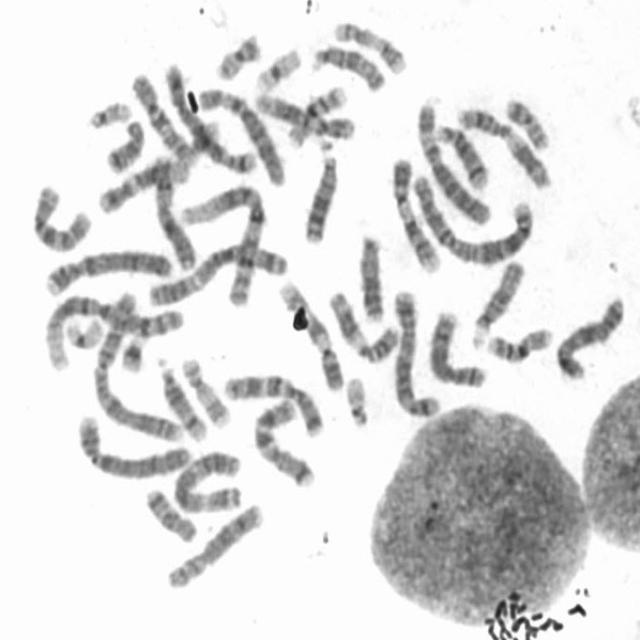A1: (36, 285, 186, 374), (176, 176, 271, 307)
A2: (84, 283, 185, 443), (404, 162, 537, 268)
A3: (141, 235, 292, 308), (167, 441, 245, 515)
B4: (70, 406, 194, 482), (38, 240, 174, 297)
B5: (157, 54, 260, 177), (386, 281, 443, 420)
C10: (125, 64, 195, 165), (24, 175, 94, 255)
C11: (450, 98, 554, 192), (322, 282, 402, 365)
C12: (91, 150, 192, 217), (248, 84, 358, 140)
C6: (410, 90, 494, 228), (192, 77, 288, 188)
C7: (217, 364, 326, 438), (248, 390, 318, 490)
C8: (160, 494, 266, 591), (422, 302, 489, 390)
C9: (273, 273, 346, 392), (384, 149, 444, 275)
D13: (298, 138, 340, 245), (352, 224, 387, 324)
D14: (150, 349, 210, 444), (426, 114, 490, 193)
D15: (463, 251, 528, 349), (305, 35, 388, 93)
E16: (282, 76, 350, 149), (480, 317, 556, 365)
E17: (328, 11, 410, 76), (176, 349, 234, 430)
E18: (139, 480, 199, 545), (98, 112, 146, 174)
F19: (248, 39, 303, 93), (58, 308, 106, 354)
F20: (498, 89, 551, 152), (208, 24, 264, 81)
G21: (115, 325, 148, 376), (188, 118, 220, 159)
G22: (338, 366, 371, 429), (81, 92, 133, 130)
X: (549, 288, 628, 382), (144, 149, 200, 272)
